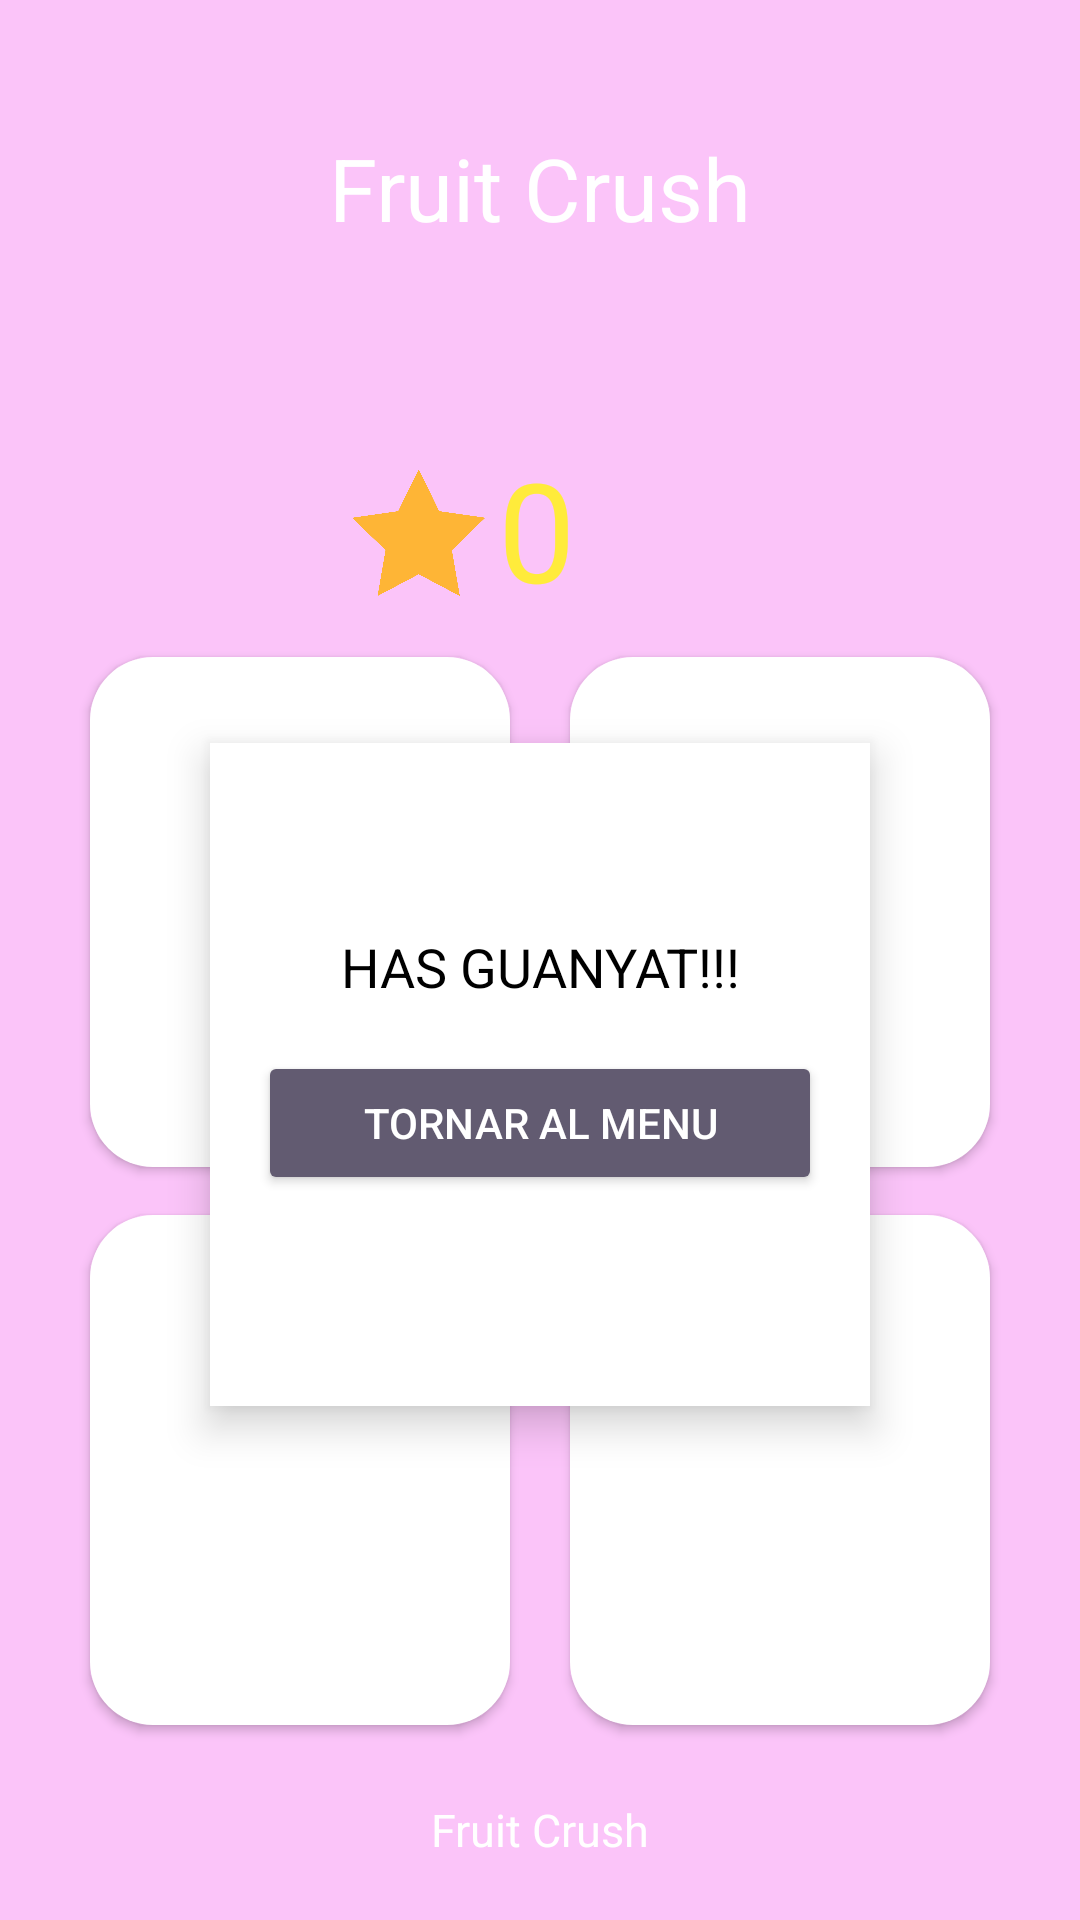

Named icons in this screenshot (1080px x 1920px) and their centers, [x,y]:
estrella: [419,533]
